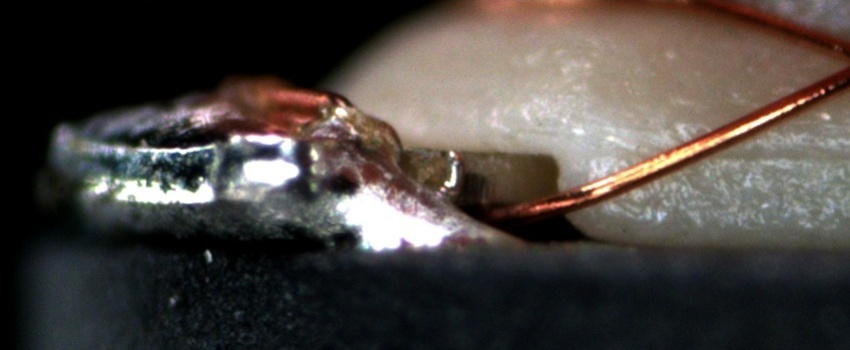CL: (830, 35, 850, 89)
DL: (699, 125, 849, 189)
